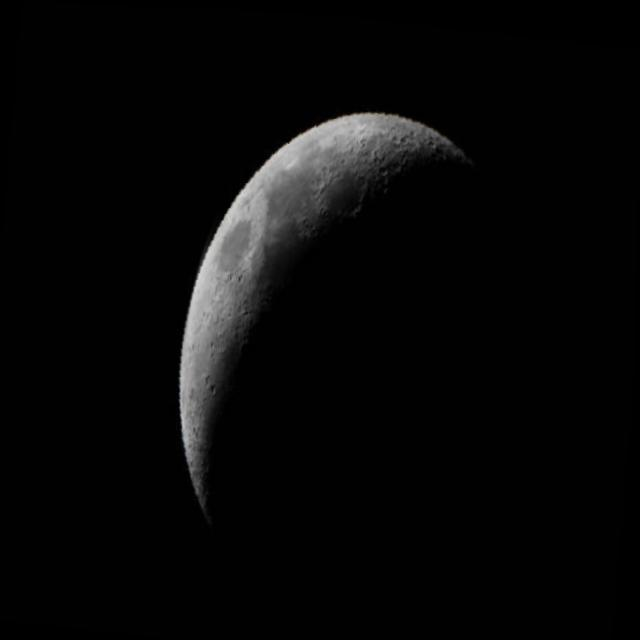moon: (147, 59, 543, 640)
